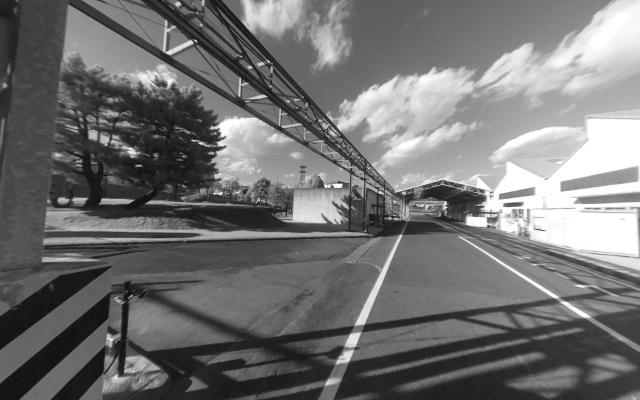bollard: (3, 260, 108, 397)
